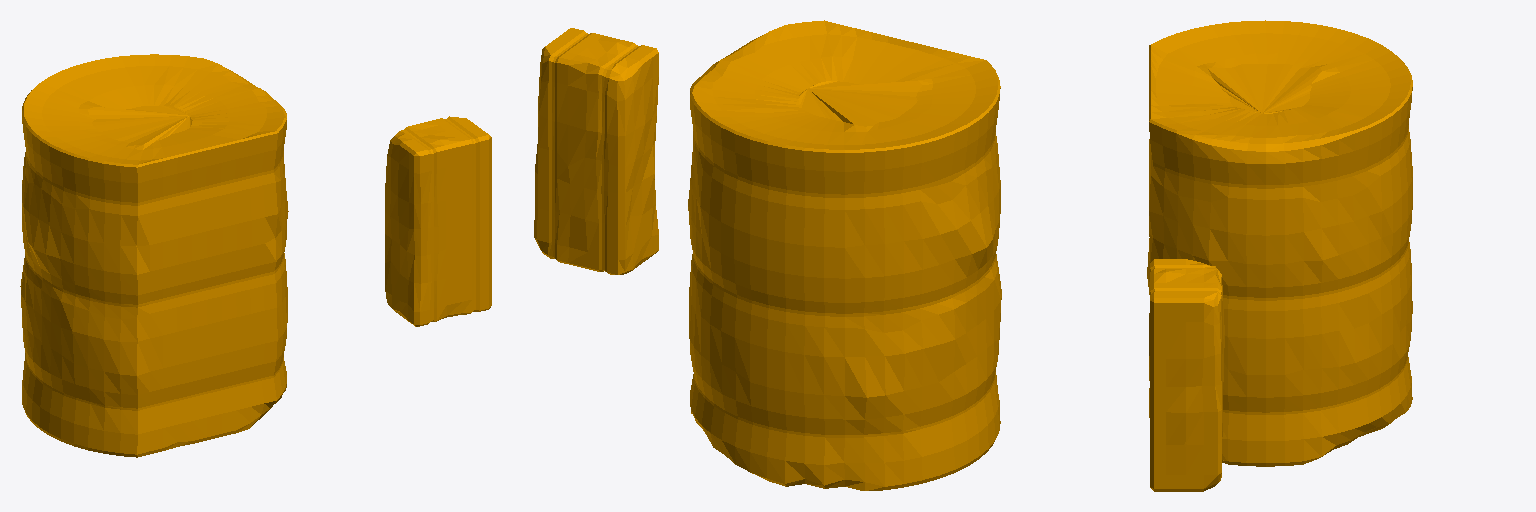
The robot description file, URDF, robot "object":
<?xml version="1.0"?>
<robot name="object">
 <link name="link">
    <visual>
      <geometry>
        <mesh filename="HayBales.obj"/>
      </geometry>
      <material name="material">
        <texture filename="HayBales.mtl"/>
      </material>
    </visual>
    <collision>
      <geometry>
        <mesh filename="HayBales.obj"/>
      </geometry>
    </collision>
 </link>
</robot>

--- What the picture shows (computed from the rendered views, not written in the file) ---
3 views of the same robot in one strip: view 1: azimuth 30°, elevation 25°; view 2: azimuth 150°, elevation 25°; view 3: azimuth 270°, elevation 25° (orthographic).
Model object with 1 links and 0 joints (none), rooted at link, posed all joints at 0.
Links seen in each view (by area): view 1: link; view 2: link; view 3: link.
Link boxes in pixels (x1,y1,x2,y2): link: (20,54,491,457); link: (534,20,1001,490); link: (1147,20,1412,491).
Size in the robot's own frame: 3.55 by 1.81 by 2.42 metres.
1 mesh visuals loaded from 1 distinct referenced files (1 OBJ).
